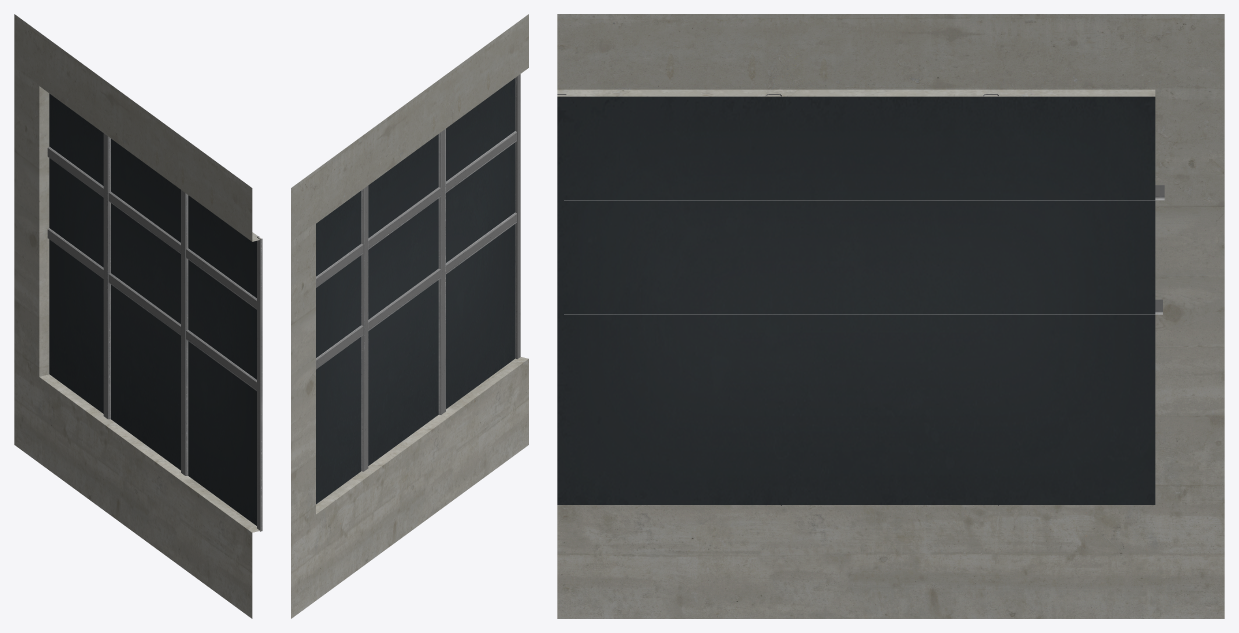
Rendered from HH_Hospital_Showcase_4m_01.fbx.
3 renders of one model, left to right at view 1: azimuth 30°, elevation 25°; view 2: azimuth 150°, elevation 25°; view 3: azimuth 270°, elevation 25°, orthographic. The views are drawn at different scales.
Parts seen in each view (by area): view 1: HH_Hospital_Showcase_4m_01; view 2: HH_Hospital_Showcase_4m_01; view 3: HH_Hospital_Showcase_4m_01.
Boxes of the visible parts, x1=… form: HH_Hospital_Showcase_4m_01: x1=14, y1=14, x2=262, y2=618; HH_Hospital_Showcase_4m_01: x1=291, y1=14, x2=528, y2=618; HH_Hospital_Showcase_4m_01: x1=557, y1=14, x2=1224, y2=618.
Bounding box in the file's own units: 10.27 × 400 × 400.
